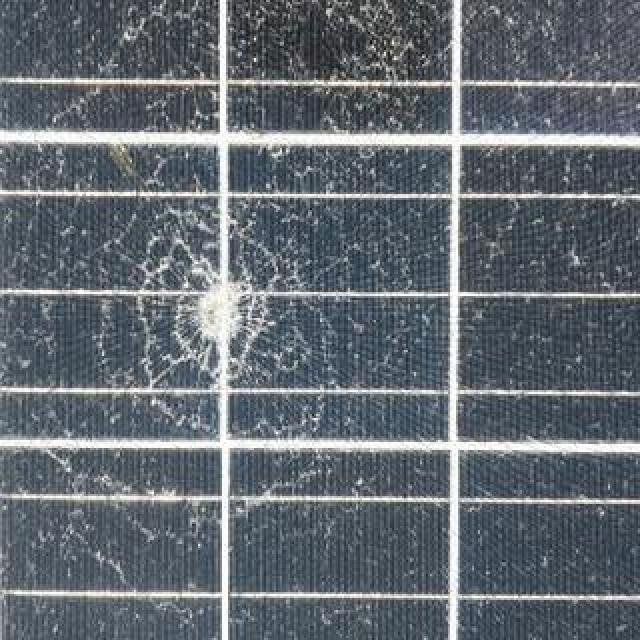cracked: (2, 2, 636, 638)
